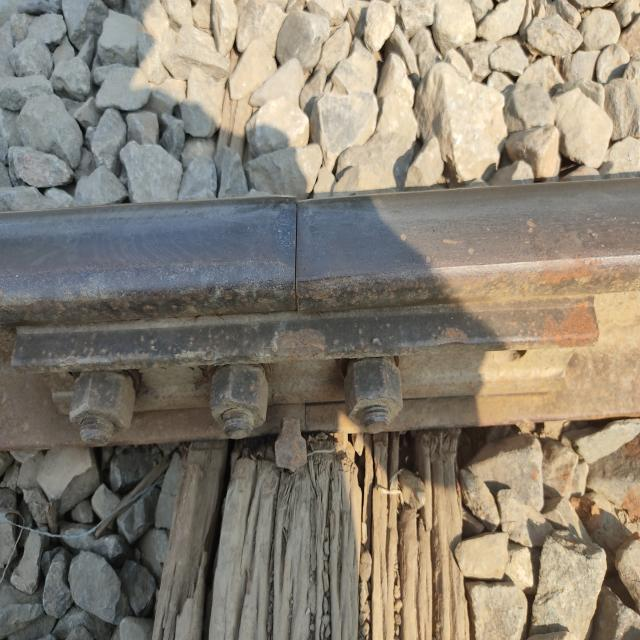Defective Joint: (11, 300, 599, 446)
